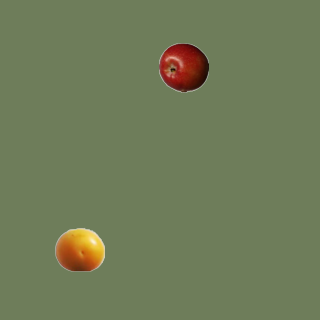Apple Braeburn: (158, 42, 208, 92)
Cherry Wax Yellow: (54, 224, 104, 274)
